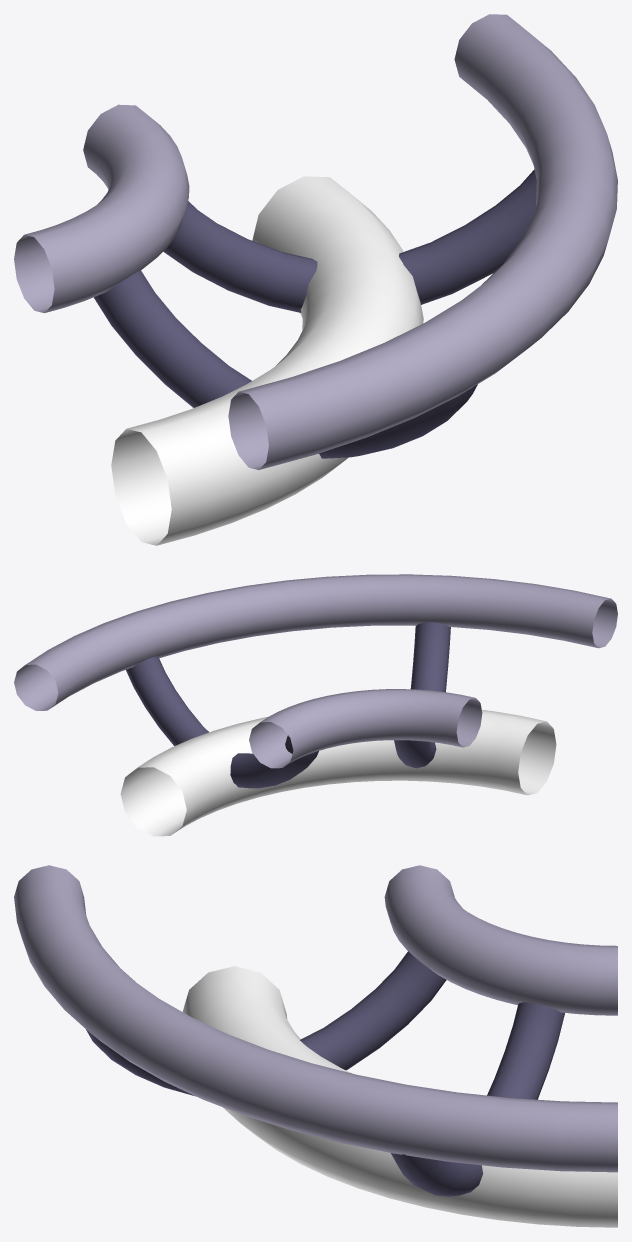
The model's file is left.obj.
3 renders of one model, top to bottom at view 1: azimuth 30°, elevation 25°; view 2: azimuth 150°, elevation 25°; view 3: azimuth 270°, elevation 25°, orthographic. The views are drawn at different scales.
Parts seen in each view (by area): view 1: Plane.303_Mesh; view 2: Plane.303_Mesh; view 3: Plane.303_Mesh.
Boxes of the visible parts, <box> form: Plane.303_Mesh: <box>14,14,617,545</box>; Plane.303_Mesh: <box>14,574,617,836</box>; Plane.303_Mesh: <box>14,865,617,1227</box>.
Bounding box in the file's own units: 3.75 × 1.34 × 3.75.
1 material, 1 textured.
